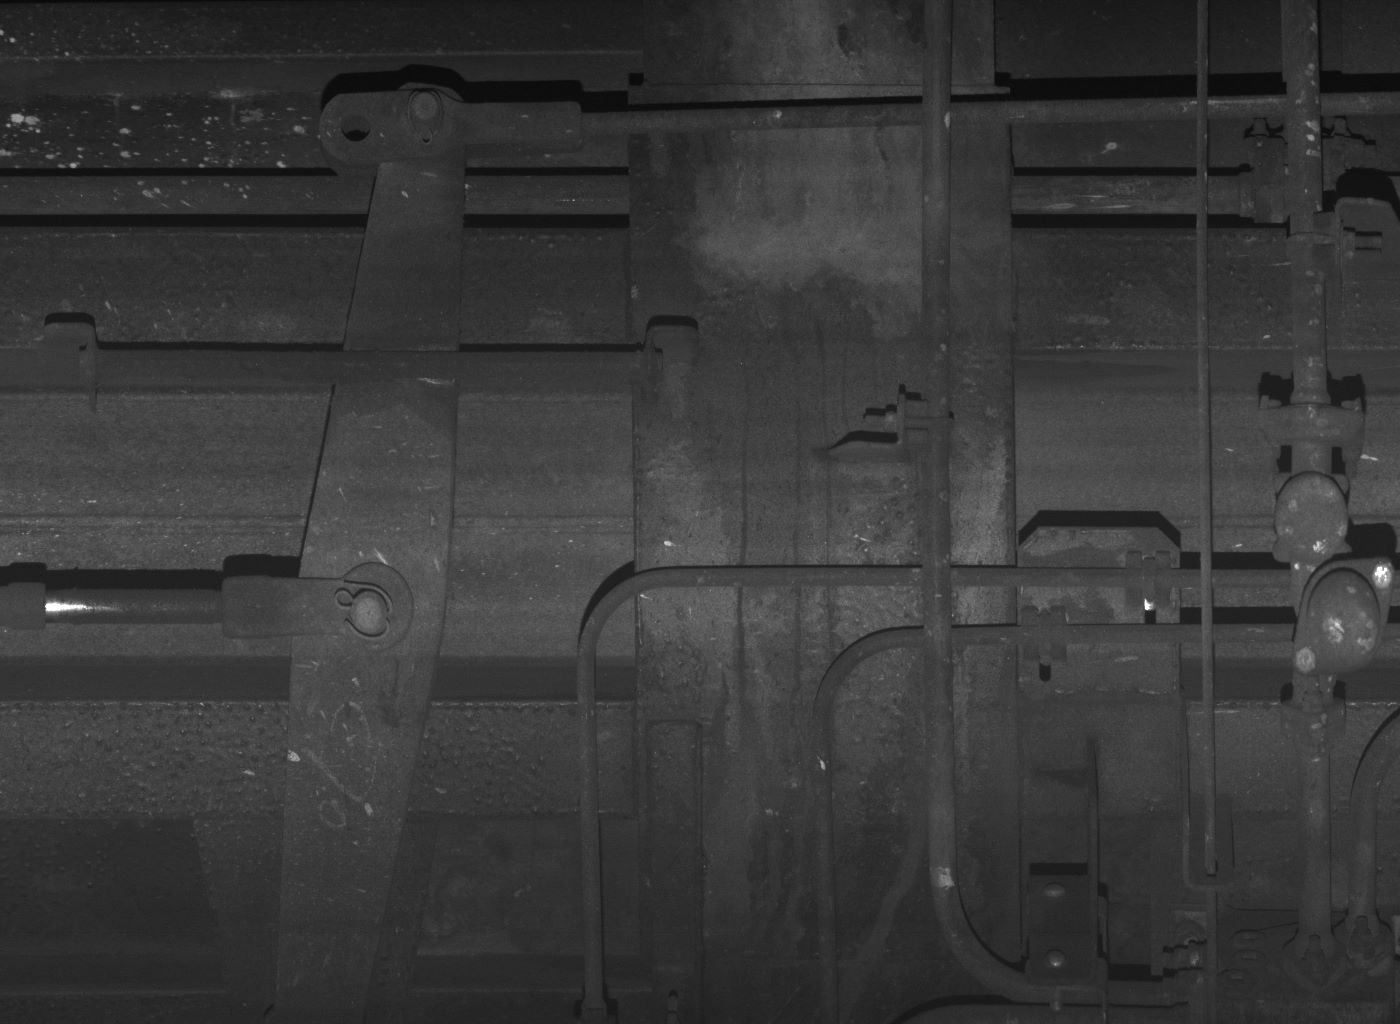normal: (1270, 472, 1355, 565)
